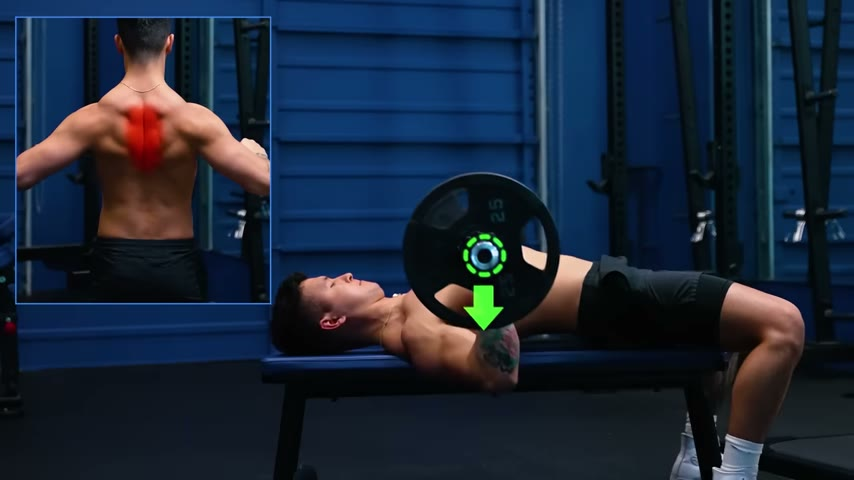barbell_plate_side: (396, 161, 520, 338)
